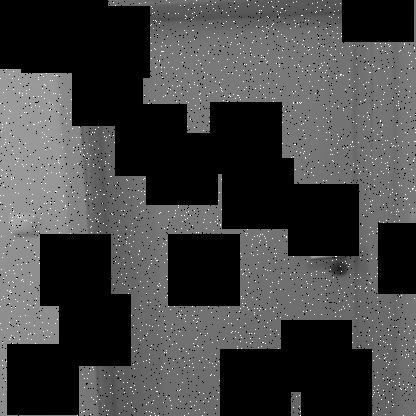Porte: (47, 0, 396, 415)
